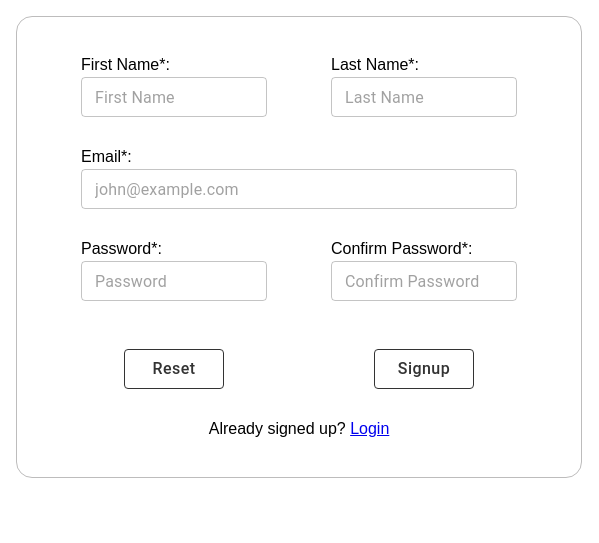
Test: Signup Form › Displays error for invalid email format
Type "invalid-email" into the field with placeholder "john@example.com" at (299, 189), box x1=81 y1=169 x2=517 y2=209
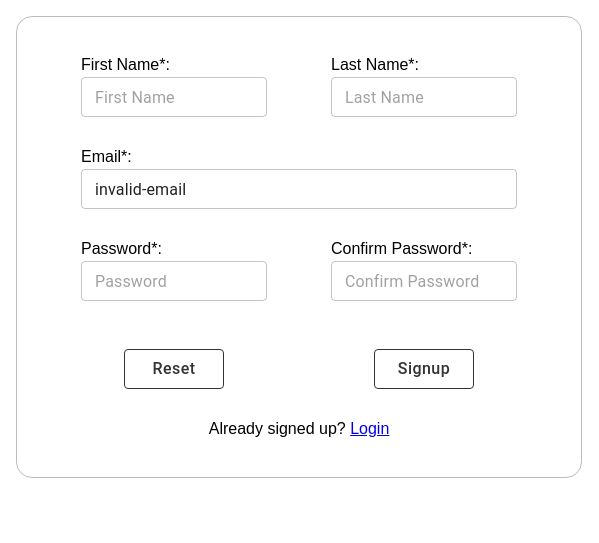
Click the button "Signup" at (424, 369), box x1=374 y1=349 x2=474 y2=389
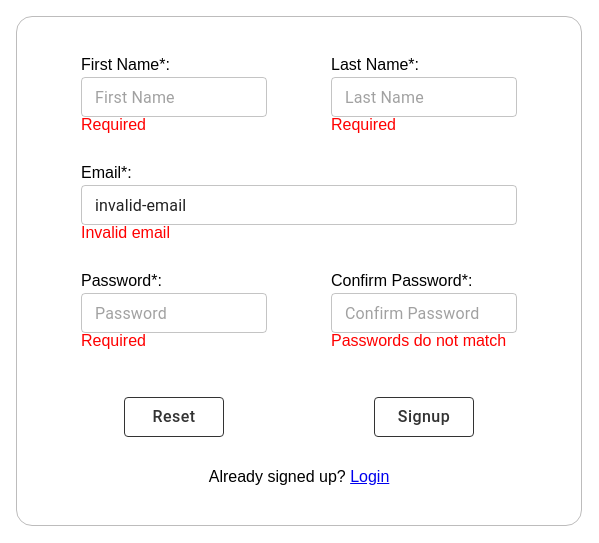
Now the text "Invalid email" is shown, box x1=81 y1=224 x2=170 y2=241
